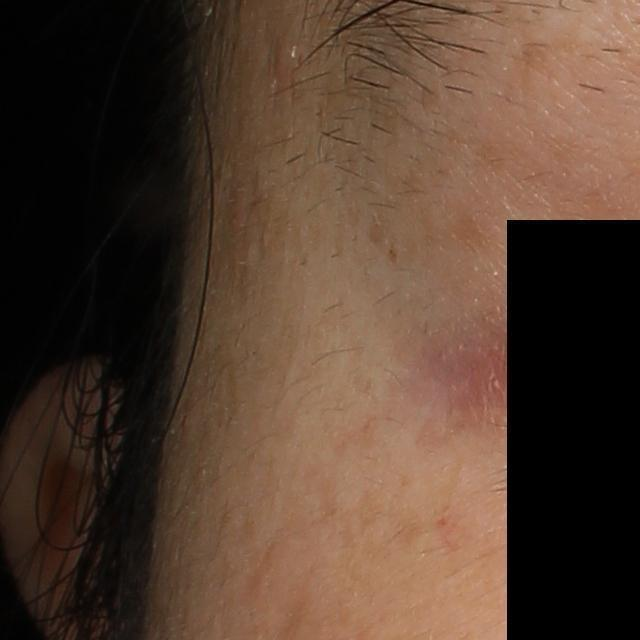melasma: (512, 37, 602, 96), (446, 204, 491, 257), (387, 239, 400, 267)
